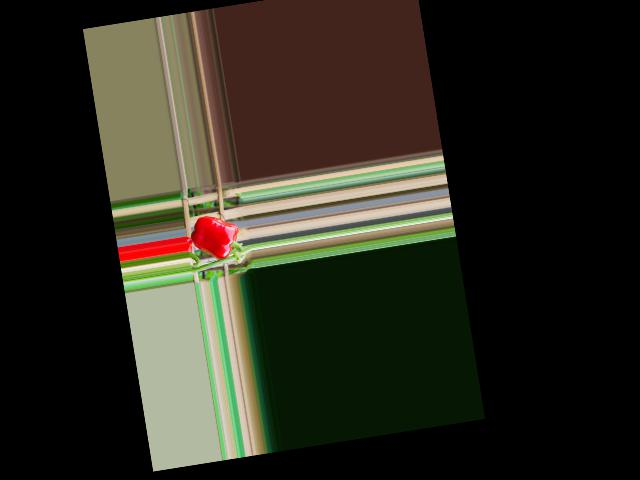bell_pepper: (188, 208, 243, 266)
